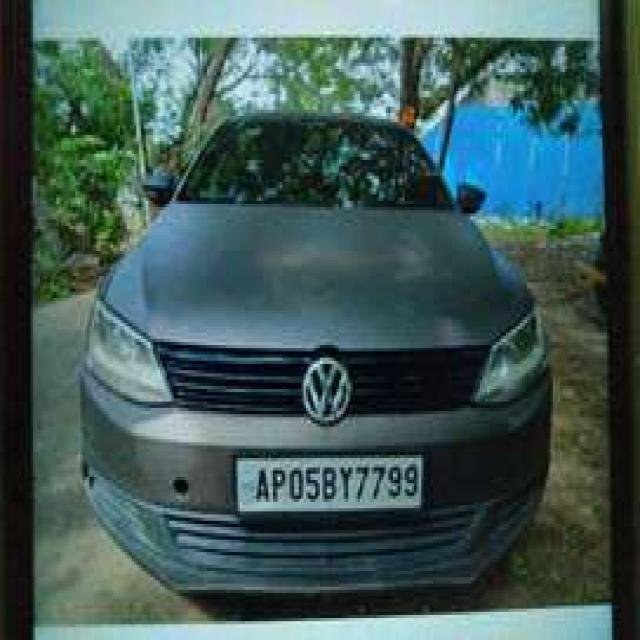license-plate: (235, 452, 419, 505)
